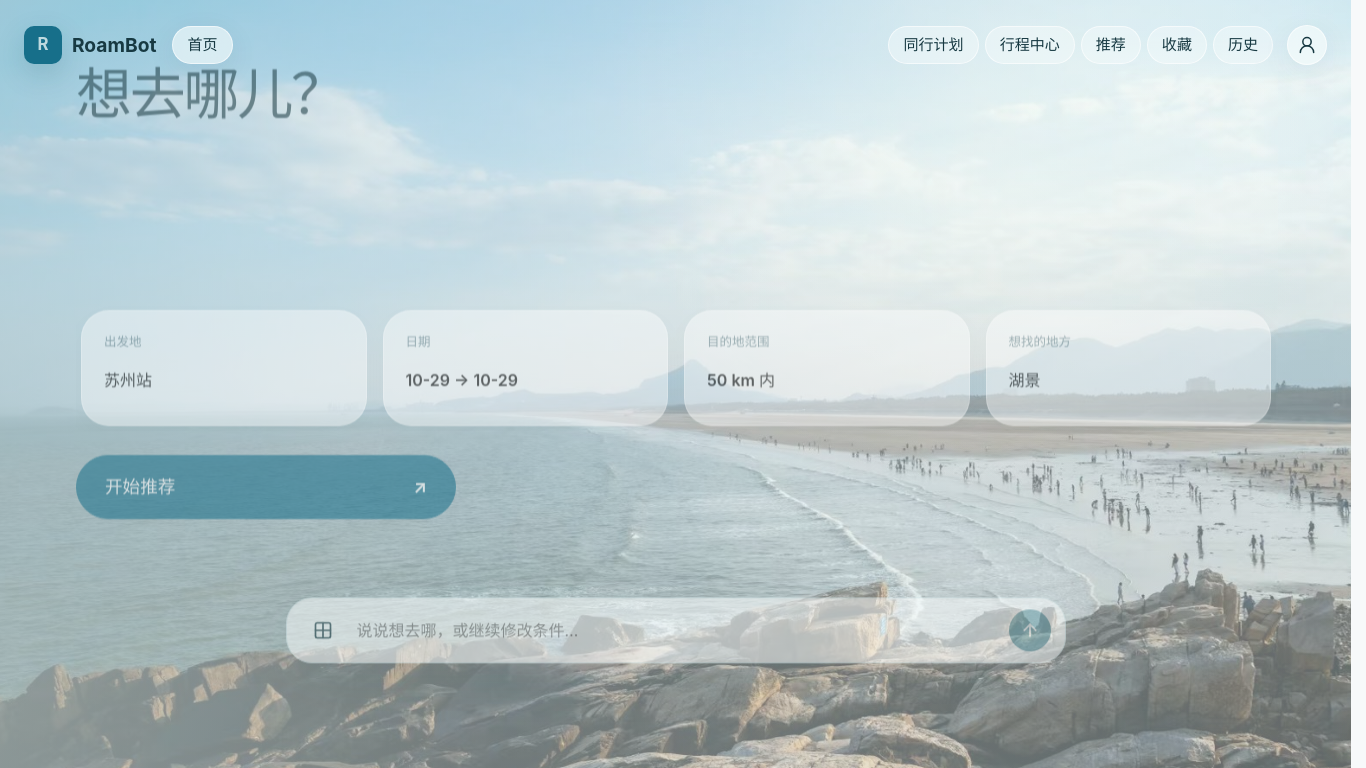
Test case: progressive SearchWorkspace business regression › shows one requested editor and keeps the composer
This screenshot has width=1366, height=768.
Expected: the field labelled "主出发地" is not shown
Click the button with aria-label "编辑出发地": point(122, 406) x1=80 y1=375 x2=366 y2=491
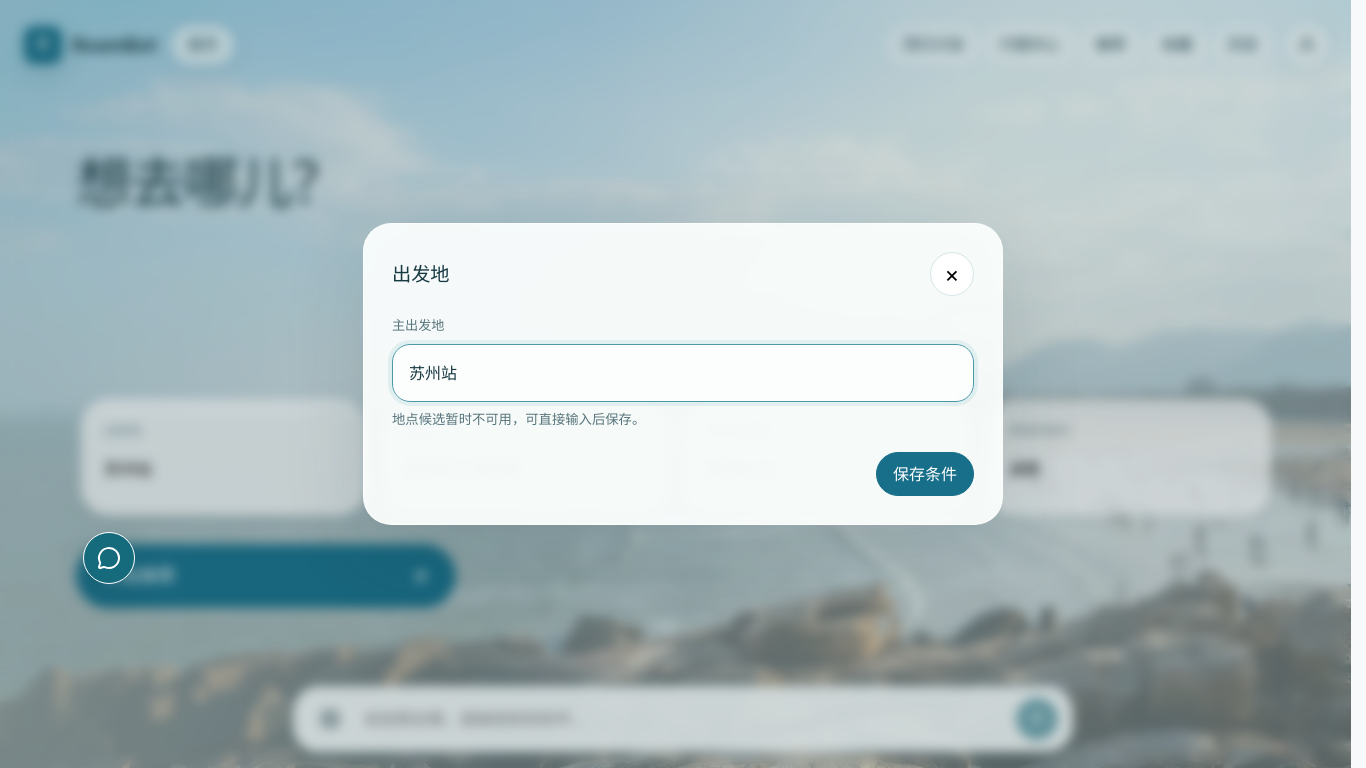
Expected: the text box named "继续补充条件" is shown, x1=364 y1=697 x2=1004 y2=741
Now the dropdown labelled "主出发地" is shown, box x1=392 y1=344 x2=974 y2=402
